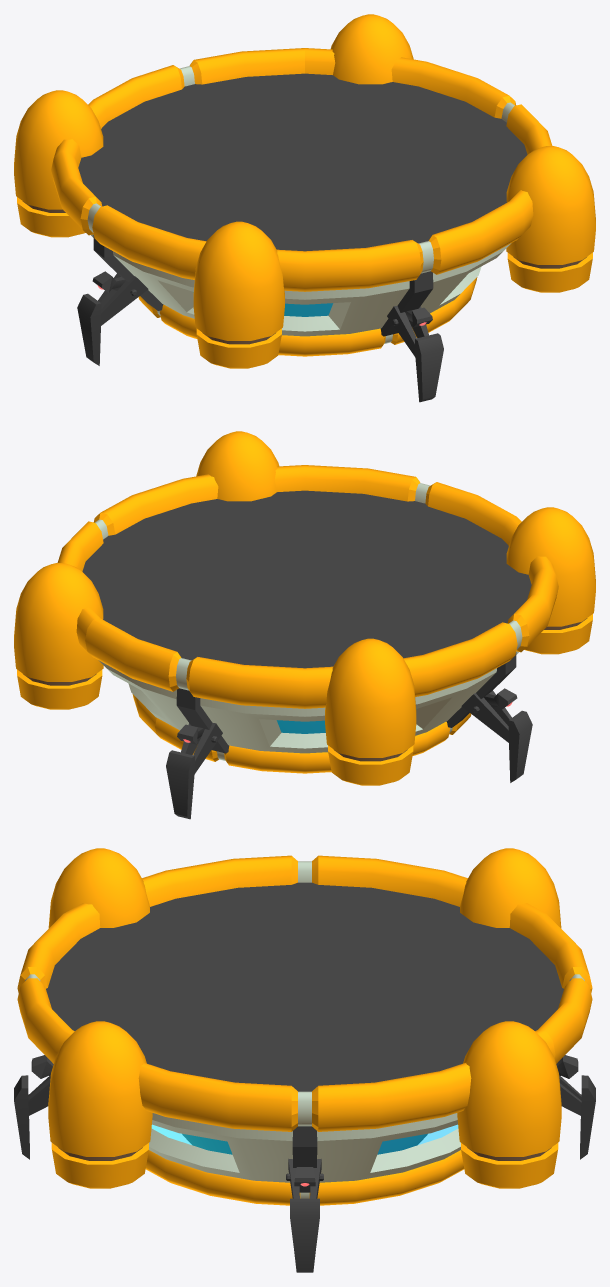
Rendered from rocketBoard.glb.
The picture shows the model from 3 angles, top to bottom: view 1: azimuth 30°, elevation 25°; view 2: azimuth 150°, elevation 25°; view 3: azimuth 270°, elevation 25°; orthographic projection. The views are drawn at different scales.
Visible parts, largest first — view 1: pad, boosters, ring, body, lowerRing, leg4, leg1, spine; view 2: pad, boosters, ring, body, lowerRing, leg4, leg3, spine; view 3: pad, boosters, ring, body, lowerRing, leg2, spine, leg1, leg3.
Boxes of the visible parts, x1,y1,x2,y2 form: pad: (78,73,527,251); boosters: (14,14,595,368); ring: (51,48,552,291); body: (91,234,511,336); lowerRing: (138,277,477,356); leg4: (77,271,148,365); leg1: (387,305,443,402); spine: (93,235,433,336); pad: (82,490,531,668); boosters: (14,431,595,785); ring: (57,465,558,708); body: (98,651,518,753); lowerRing: (132,694,471,773); leg4: (461,688,532,782); leg3: (166,722,222,819); spine: (176,652,516,753); pad: (46,882,563,1091); boosters: (48,848,561,1188); ring: (17,855,592,1131); body: (149,1113,460,1182); lowerRing: (145,1150,464,1205); leg2: (286,1158,323,1272); spine: (182,1126,427,1192); leg1: (14,1055,53,1159); leg3: (556,1055,595,1159).
Size of the model in its own units: 2.23 by 0.9238 by 2.23.
6 materials, 4 textured.
